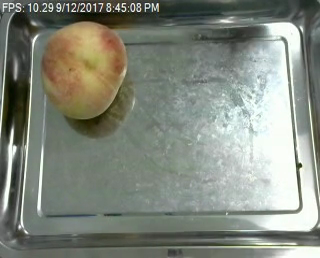Peach: (41, 20, 128, 120)
